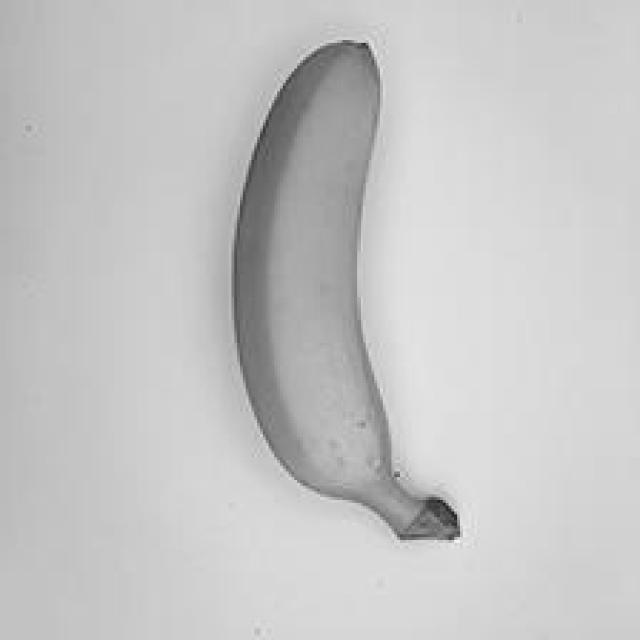Unripe: (213, 22, 493, 561)
